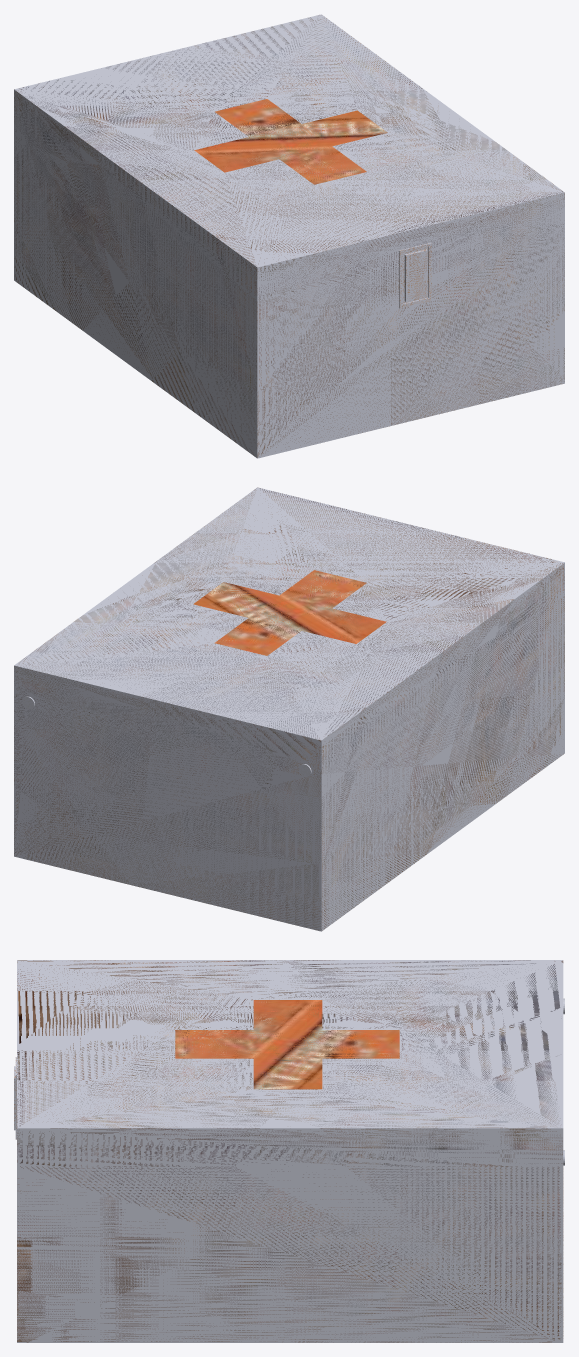
File: PrimoSoccorso.fbx
The picture shows the model from 3 angles, top to bottom: view 1: azimuth 30°, elevation 25°; view 2: azimuth 150°, elevation 25°; view 3: azimuth 270°, elevation 25°; orthographic projection. The views are drawn at different scales.
Visible parts, largest first — view 1: group_0.003, group_0.001, group_0.006, group_0.004; view 2: group_0.003, group_0.001; view 3: group_0.003, group_0.001.
Boxes of the visible parts, box(x1,y1,x2,y2) form: group_0.003: box(14, 14, 564, 458); group_0.001: box(194, 99, 387, 184); group_0.006: box(404, 249, 427, 301); group_0.004: box(399, 242, 431, 308); group_0.003: box(14, 487, 564, 931); group_0.001: box(193, 570, 386, 655); group_0.003: box(17, 960, 563, 1342); group_0.001: box(175, 1000, 399, 1089).
Size of the model in its own units: 4.06 by 5.62 by 2.41.
